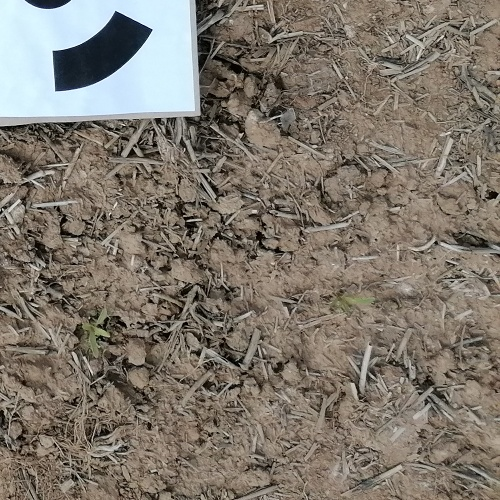beet: (82, 302, 110, 363), (327, 291, 378, 318)
